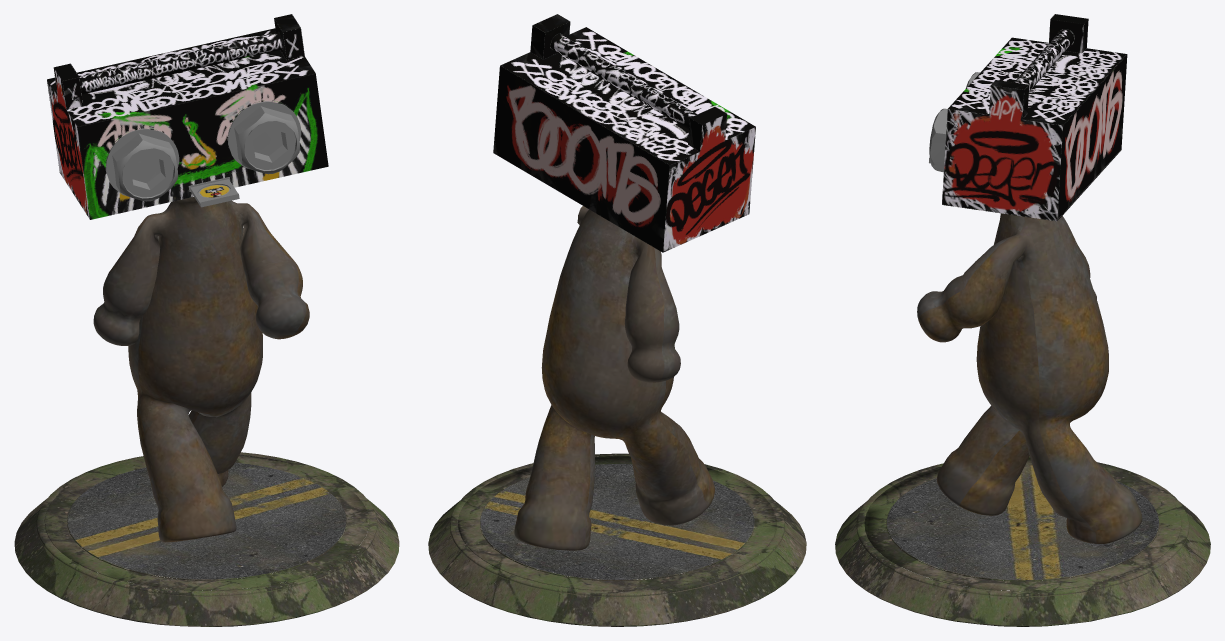
The picture shows the model from 3 angles, left to right: view 1: azimuth 30°, elevation 25°; view 2: azimuth 150°, elevation 25°; view 3: azimuth 270°, elevation 25°; orthographic projection. The views are drawn at different scales.
Visible parts, largest first — view 1: BBody; view 2: BBody; view 3: BBody.
Part boxes in pixels (bbox=[...]): BBody: bbox=[14, 14, 399, 626]; BBody: bbox=[428, 14, 806, 626]; BBody: bbox=[835, 14, 1210, 626].
Bounding box in the file's own units: 1.45 × 2.12 × 1.45.
Materials: 8 (5 with a texture image).
